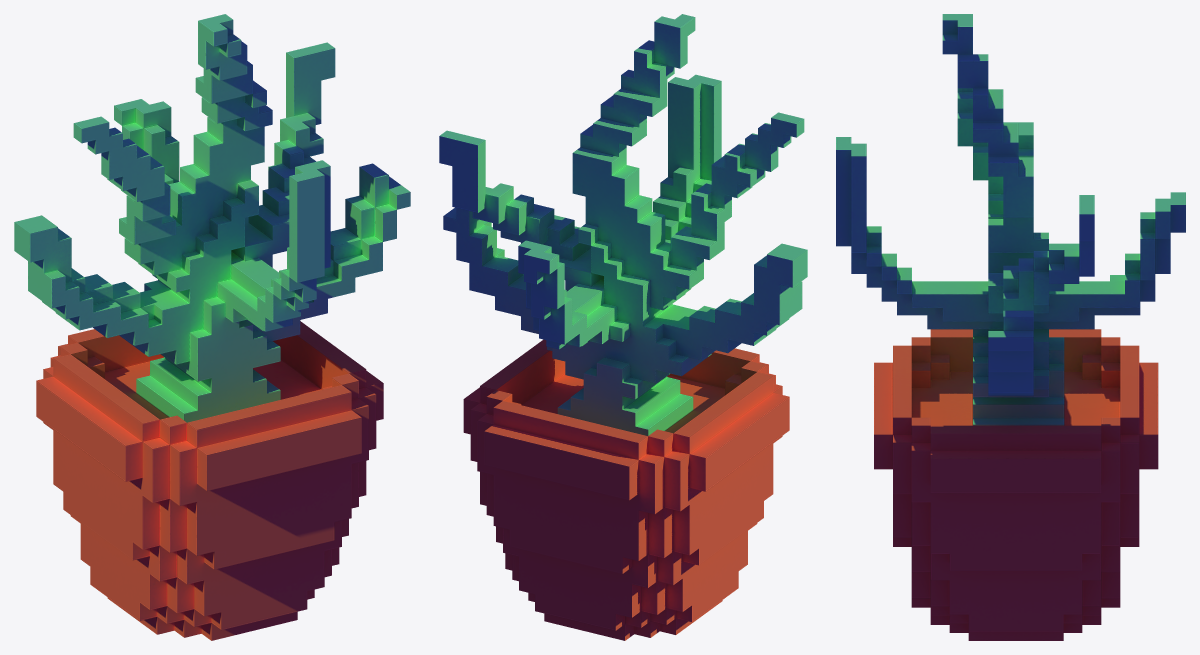
The model's file is pixel_pot.glb.
The picture shows the model from 3 angles, left to right: view 1: azimuth 30°, elevation 25°; view 2: azimuth 150°, elevation 25°; view 3: azimuth 270°, elevation 25°; orthographic projection. The views are drawn at different scales.
Visible parts, largest first — view 1: b.001; view 2: b.001; view 3: b.001.
Part boxes in pixels (x1=…): b.001: x1=14, y1=14, x2=410, y2=640; b.001: x1=439, y1=14, x2=807, y2=640; b.001: x1=836, y1=14, x2=1185, y2=640.
Bounding box in the file's own units: 0.5221 × 0.8065 × 0.4448.
Materials: 1 (1 with a texture image).
